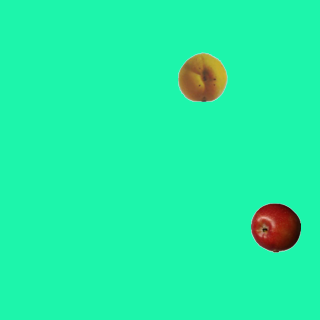Apple Braeburn: (250, 202, 300, 252)
Peach 2: (177, 51, 227, 101)
